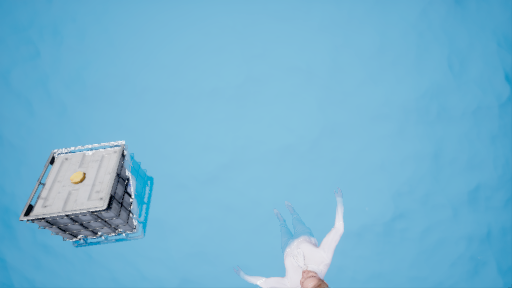person: (246, 189, 348, 288)
